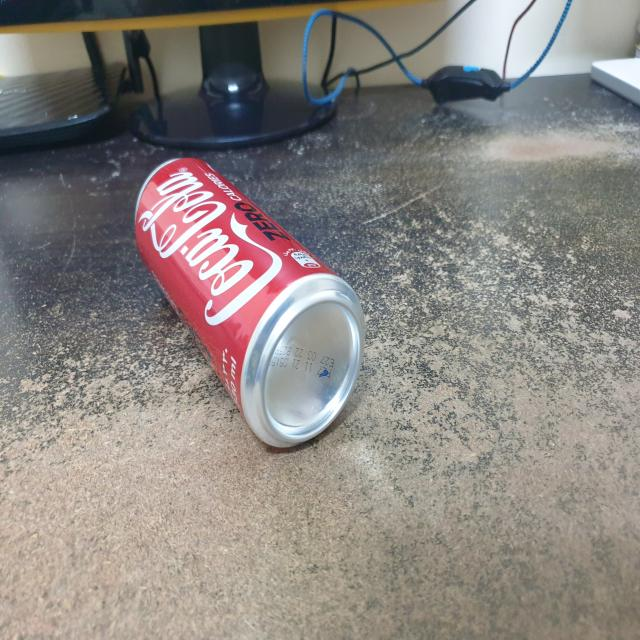non-organic waste: (124, 149, 376, 458)
